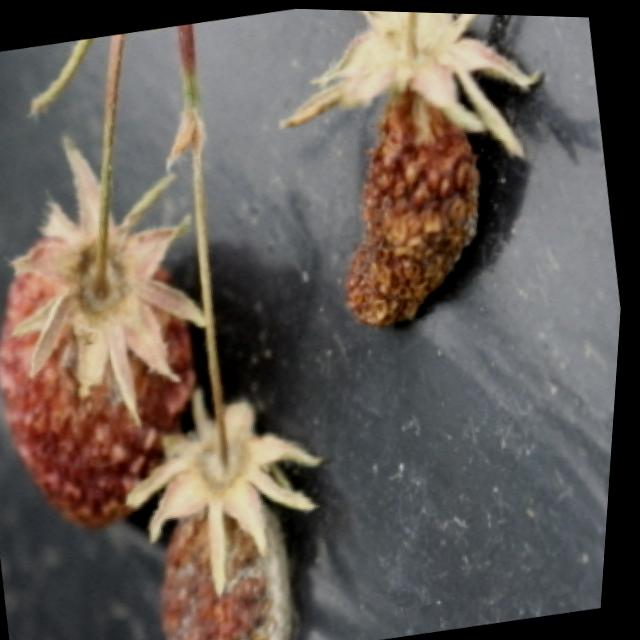Gray Mold: (130, 391, 331, 640)
